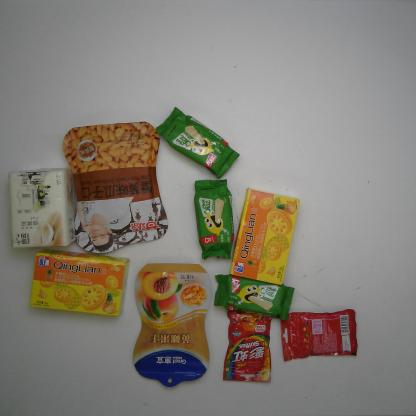Candy: (279, 305, 360, 361), (222, 304, 273, 384)
Dessert: (27, 248, 130, 317), (152, 104, 238, 178), (214, 273, 296, 322), (191, 173, 235, 262)
Dried Fruit: (63, 121, 169, 254), (134, 261, 214, 384)
Tissue: (4, 164, 74, 249)
